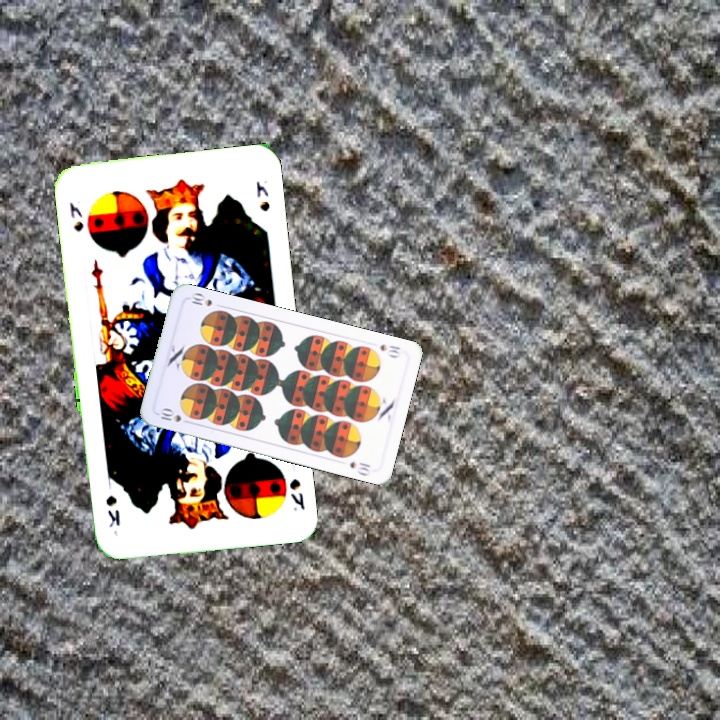S10: (154, 405, 194, 427), (376, 340, 403, 360)
SK: (286, 475, 307, 513), (65, 198, 86, 234)
